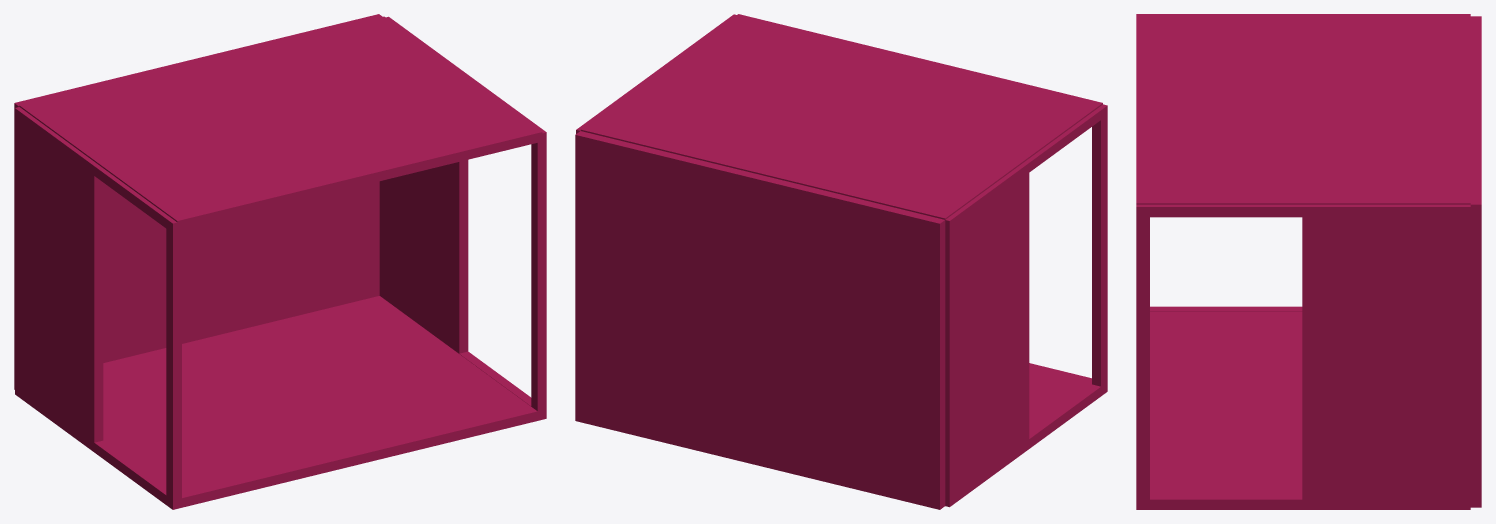
Rendered from Frame_3_4.obj.
3 renders of one model, left to right at view 1: azimuth 30°, elevation 25°; view 2: azimuth 150°, elevation 25°; view 3: azimuth 270°, elevation 25°, orthographic. The views are drawn at different scales.
Parts seen in each view (by area): view 1: Box008; view 2: Box008; view 3: Box008.
Part boxes in pixels (x1,y1,x2,y2): Box008: [14, 14, 546, 509]; Box008: [575, 14, 1107, 509]; Box008: [1136, 14, 1481, 509].
Bounding box in the file's own units: 4.1 × 3.01 × 3.1.
